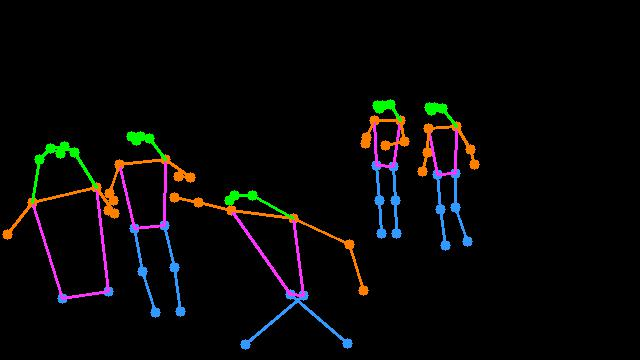normal: (2, 134, 122, 312), (412, 94, 492, 261), (351, 84, 415, 252)
